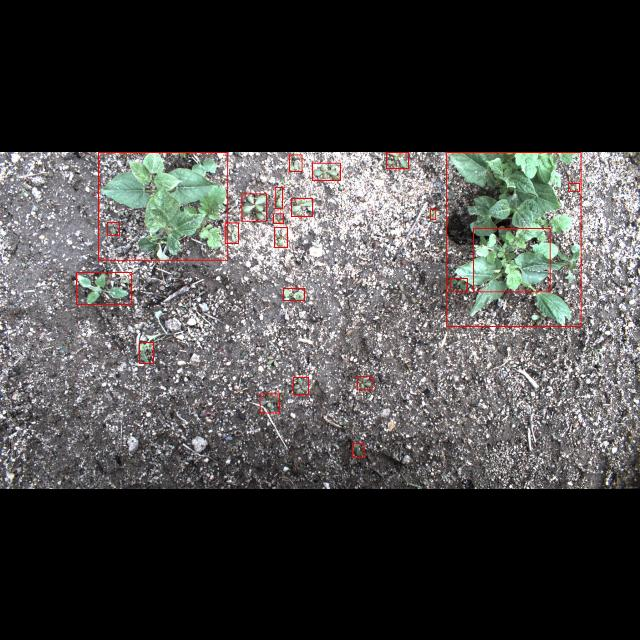crop: (447, 151, 581, 325), (99, 151, 228, 259)
weed: (474, 227, 550, 291), (76, 272, 132, 304), (242, 193, 266, 220), (312, 162, 340, 180), (260, 393, 280, 412), (292, 198, 312, 216), (387, 151, 409, 167), (139, 342, 153, 362), (274, 227, 288, 247), (225, 222, 238, 242), (294, 376, 308, 394), (450, 277, 468, 291), (284, 288, 304, 300), (288, 154, 302, 170), (358, 376, 372, 389), (275, 186, 283, 208), (352, 443, 364, 457), (107, 222, 119, 234), (273, 213, 283, 223), (568, 182, 580, 190), (430, 208, 436, 218)
